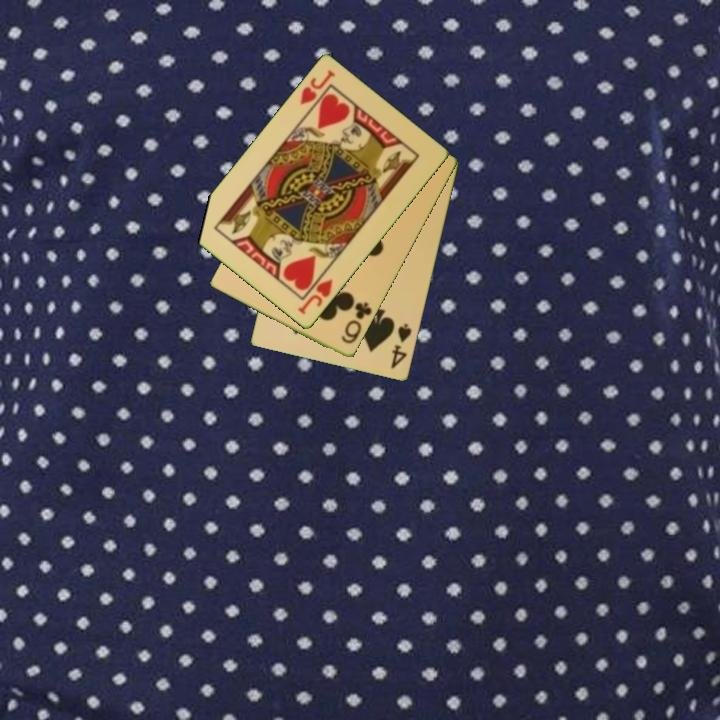4s: (387, 320, 415, 372)
6c: (338, 299, 375, 347)
Jh: (294, 267, 336, 318), (296, 67, 338, 108)
